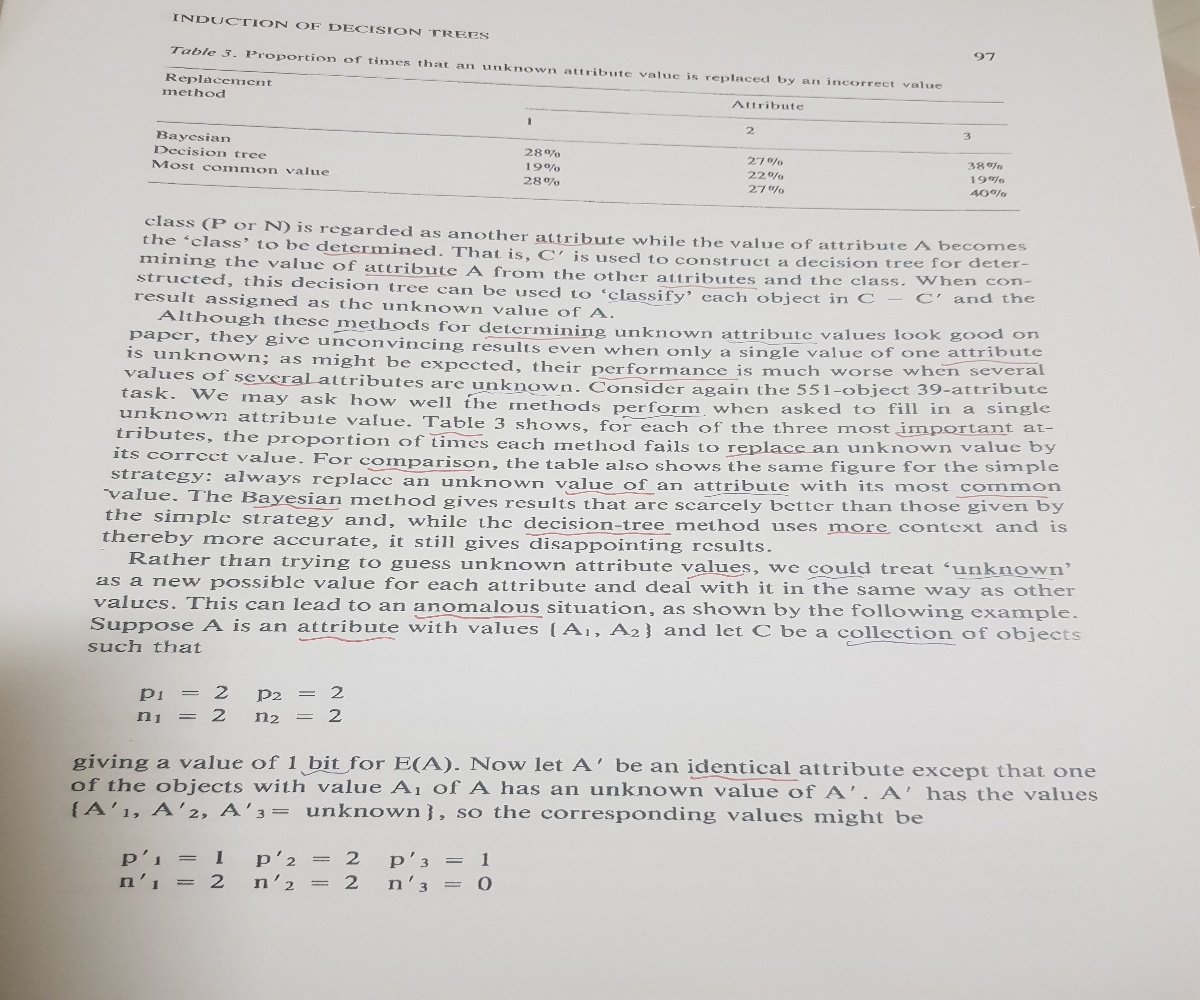underline: (842, 637, 957, 654), (362, 464, 476, 477), (594, 373, 740, 383), (523, 528, 678, 537), (687, 774, 803, 786), (416, 611, 545, 621), (484, 332, 591, 344), (724, 336, 822, 349), (956, 572, 1062, 584), (465, 388, 565, 400), (564, 488, 658, 500), (247, 500, 337, 512), (297, 633, 394, 644), (319, 249, 424, 259), (896, 429, 1010, 438), (657, 282, 761, 291), (365, 271, 457, 281), (240, 379, 321, 390), (533, 239, 621, 249), (618, 411, 704, 421), (724, 449, 816, 458), (938, 359, 1040, 367), (701, 490, 791, 499), (330, 324, 403, 335), (955, 491, 1050, 499), (605, 297, 680, 307), (828, 529, 895, 540), (427, 427, 489, 438), (805, 573, 866, 584), (297, 766, 355, 777), (686, 572, 746, 582)
